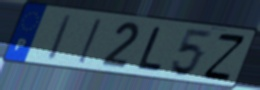2: (98, 21, 144, 71)
5: (169, 26, 216, 78)
I: (45, 13, 74, 63), (75, 17, 103, 66)
L: (135, 25, 165, 73)
Z: (200, 32, 248, 82)
